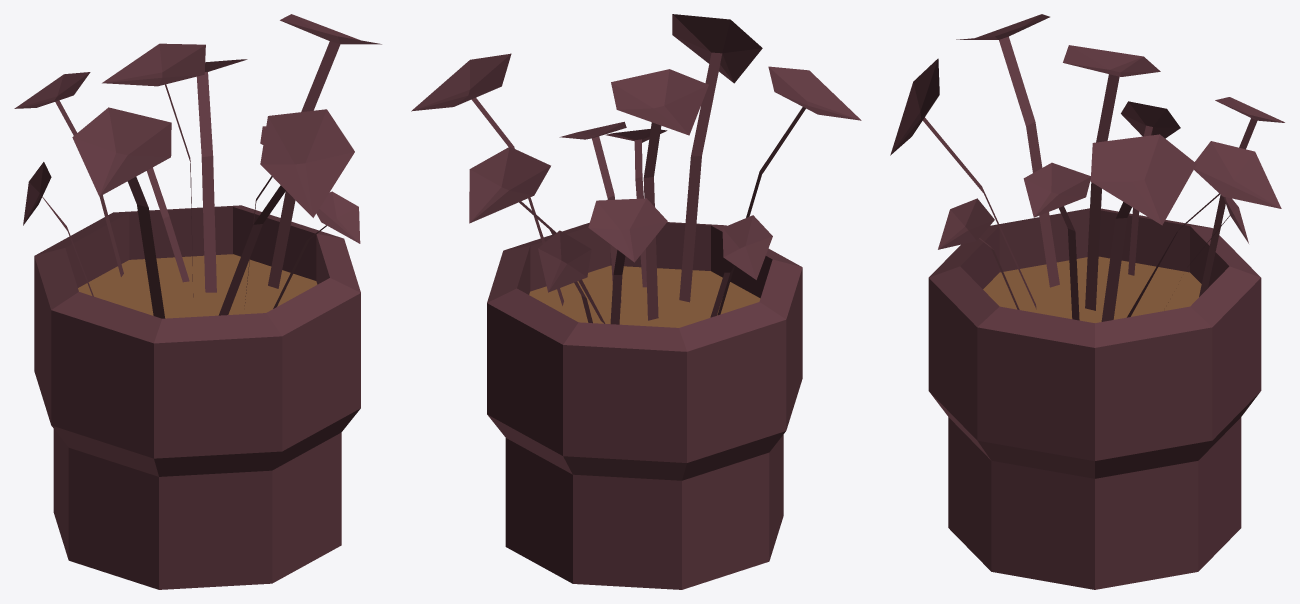
The model's file is furniture-pot-pilea.glb.
3 renders of one model, left to right at view 1: azimuth 30°, elevation 25°; view 2: azimuth 150°, elevation 25°; view 3: azimuth 270°, elevation 25°, orthographic. The views are drawn at different scales.
Visible parts, largest first — view 1: pot-pilea; view 2: pot-pilea; view 3: pot-pilea.
Part boxes in pixels (bbox=[...]): pot-pilea: bbox=[14, 14, 381, 589]; pot-pilea: bbox=[411, 14, 861, 589]; pot-pilea: bbox=[890, 14, 1284, 589].
Bounding box in the file's own units: 0.1669 × 0.2045 × 0.1575.
